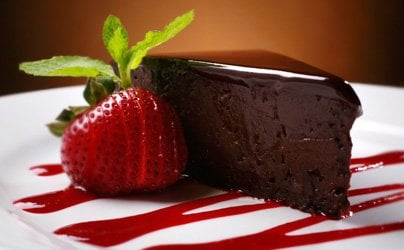sushi: (134, 52, 363, 218)
